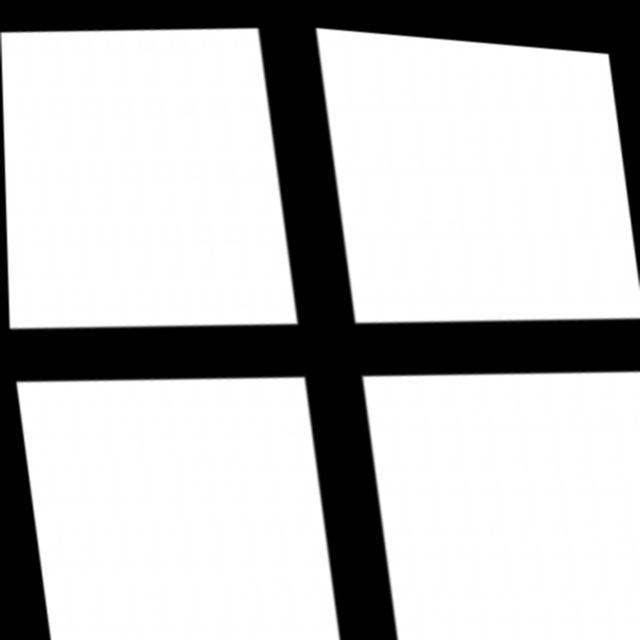cross: (153, 188, 491, 484)
